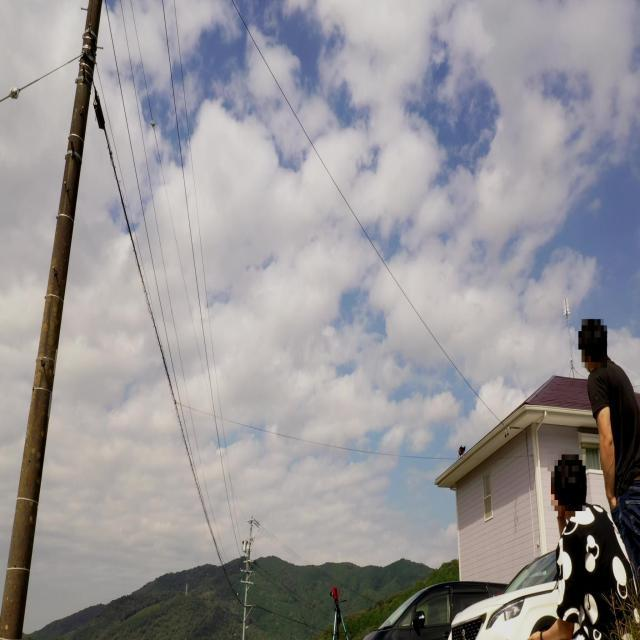Birds: (454, 438, 467, 461)
